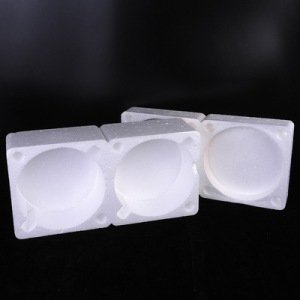5/可回收垃圾/泡沫: (6, 118, 201, 240), (120, 106, 294, 211)
